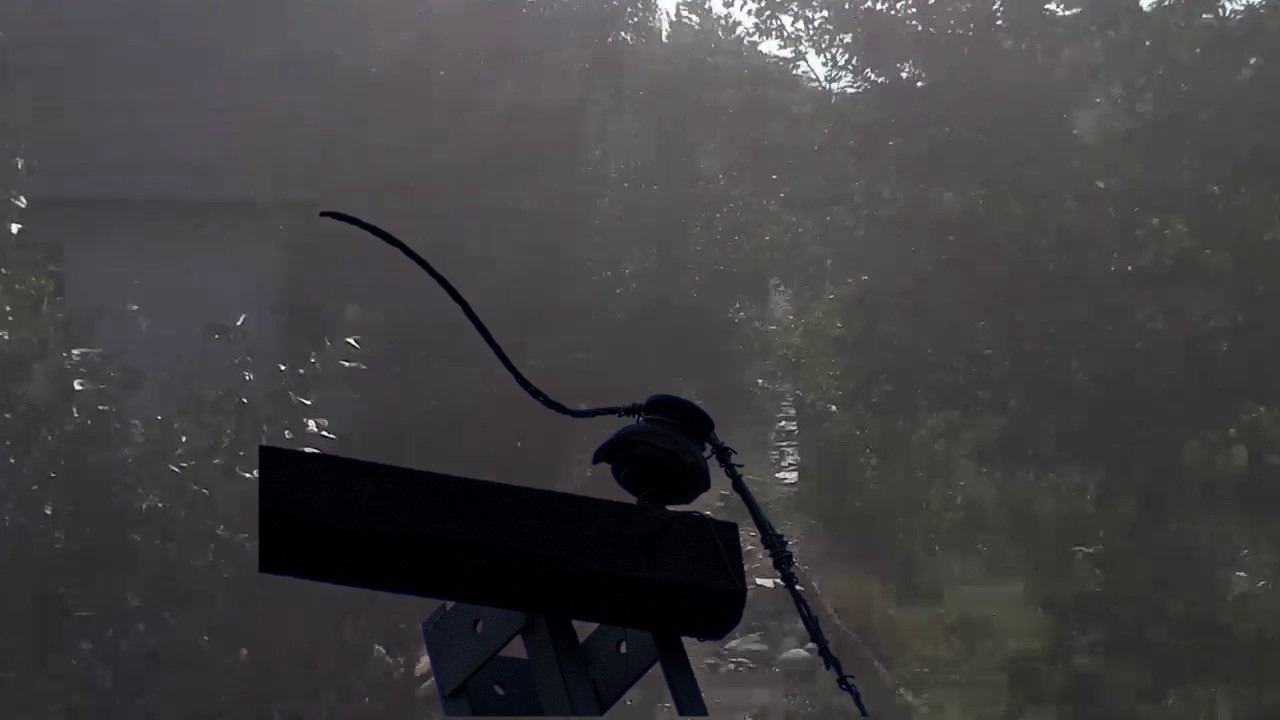defect_pin: (590, 381, 718, 518)
